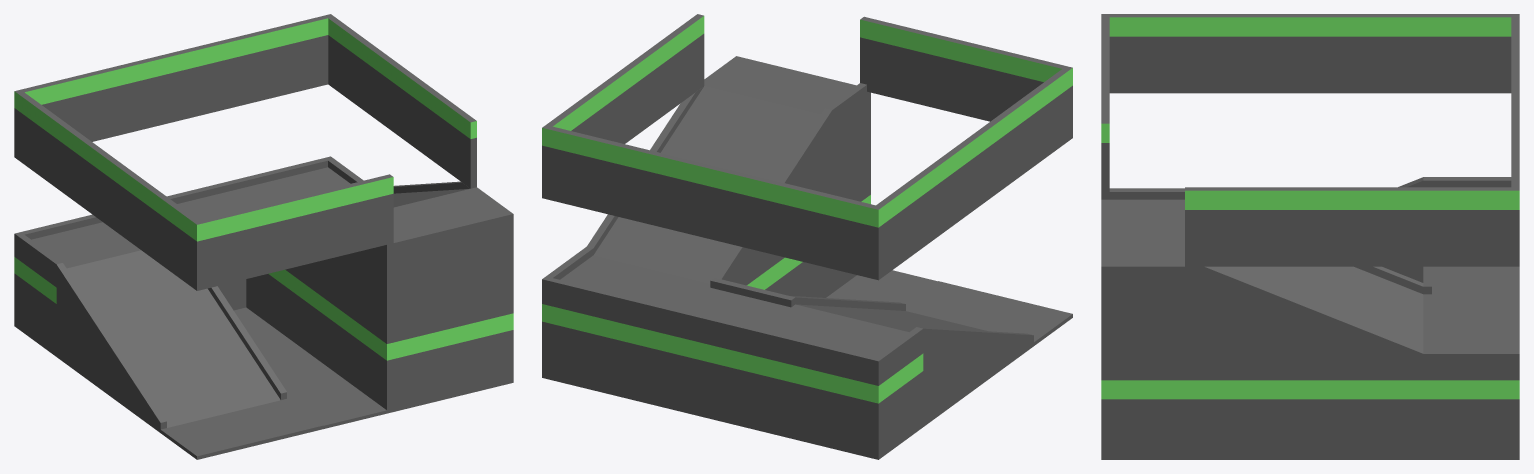
Rendered from floorRamp.fbx.
3 views of the same model, side by side, from view 1: azimuth 30°, elevation 25°; view 2: azimuth 150°, elevation 25°; view 3: azimuth 270°, elevation 25° (orthographic). The views are drawn at different scales.
Visible parts, largest first — view 1: ramp, rampfloor; view 2: ramp, rampfloor; view 3: ramp, rampfloor.
Boxes of the visible parts, x1,y1,x2,y2 form: ramp: (14,14,513,456); rampfloor: (14,307,513,459); ramp: (542,14,1072,456); rampfloor: (542,270,1072,459); ramp: (1101,14,1519,456); rampfloor: (1101,456,1519,459).
Size of the model in its own units: 1000 by 710 by 1000.
